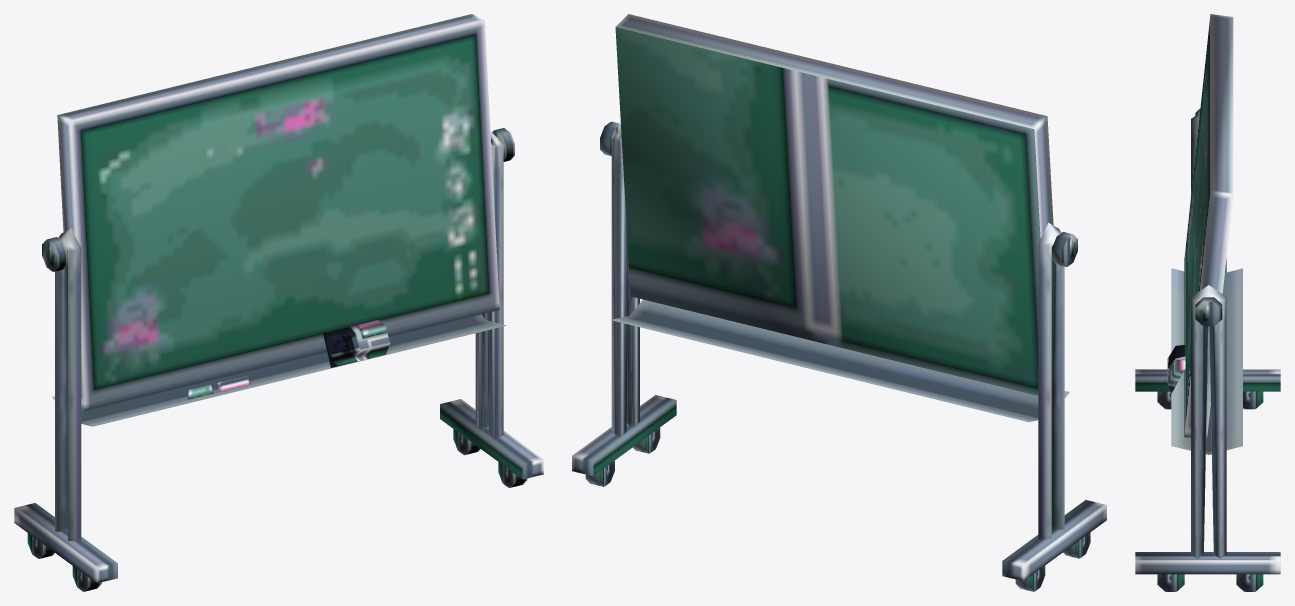
File: rmk_sch_blackboard.dae
The picture shows the model from 3 angles, left to right: view 1: azimuth 30°, elevation 25°; view 2: azimuth 150°, elevation 25°; view 3: azimuth 270°, elevation 25°; orthographic projection. The views are drawn at different scales.
Visible parts, largest first — view 1: rmk_sch_blackboard; view 2: rmk_sch_blackboard; view 3: rmk_sch_blackboard.
Part boxes in pixels (x1,y1,x2,y2): rmk_sch_blackboard: (14,14,543,591); rmk_sch_blackboard: (572,14,1106,591); rmk_sch_blackboard: (1135,14,1280,591).
Size of the model in its own units: 56.95 by 53.4 by 17.8.
1 material, 1 textured.
